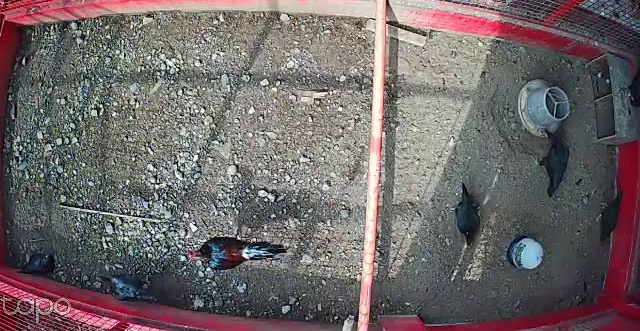Chicken: (531, 127, 572, 198), (453, 182, 482, 251), (595, 189, 625, 244), (109, 275, 158, 303), (17, 251, 59, 275)
Drinker: (508, 234, 543, 271)
Feeder: (518, 76, 573, 139)
Rooster: (185, 235, 290, 273)
